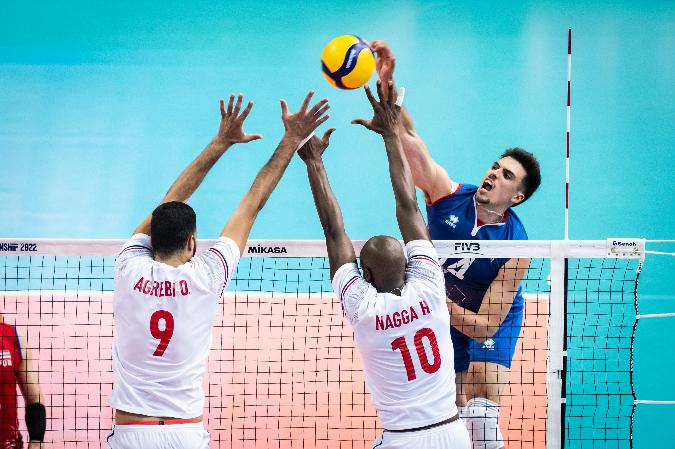ballon_volley: (319, 33, 376, 91)
